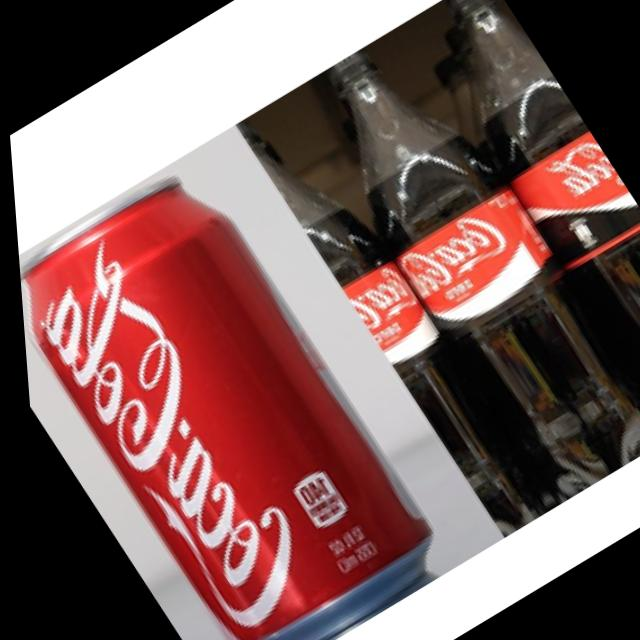aluminum_soda_cans: (9, 151, 467, 640)
plastic_soda_bottles: (305, 51, 640, 496), (255, 126, 546, 528), (414, 0, 640, 433)
